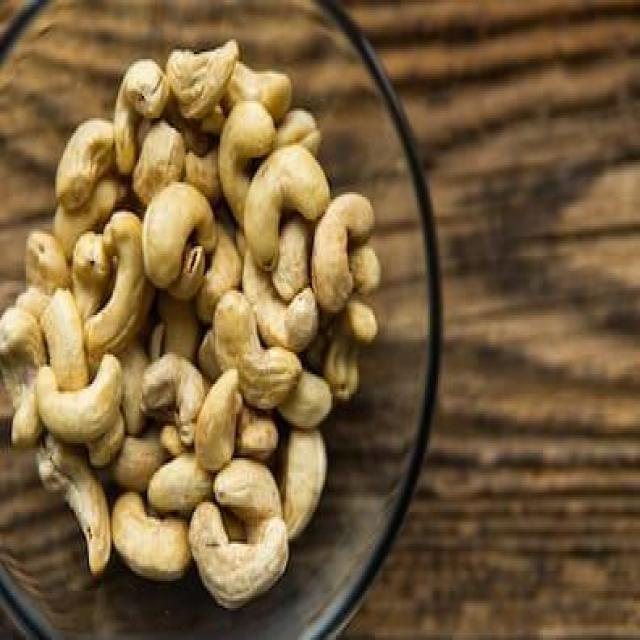Cashew: (318, 171, 388, 318), (39, 446, 115, 575), (187, 511, 286, 600), (248, 156, 322, 265), (213, 304, 300, 395), (117, 503, 211, 582), (102, 207, 151, 356), (40, 276, 96, 378), (53, 104, 113, 193), (134, 354, 203, 431), (217, 452, 285, 525), (141, 191, 216, 254), (46, 371, 126, 419), (223, 108, 281, 168), (195, 380, 238, 453), (2, 375, 37, 440)
